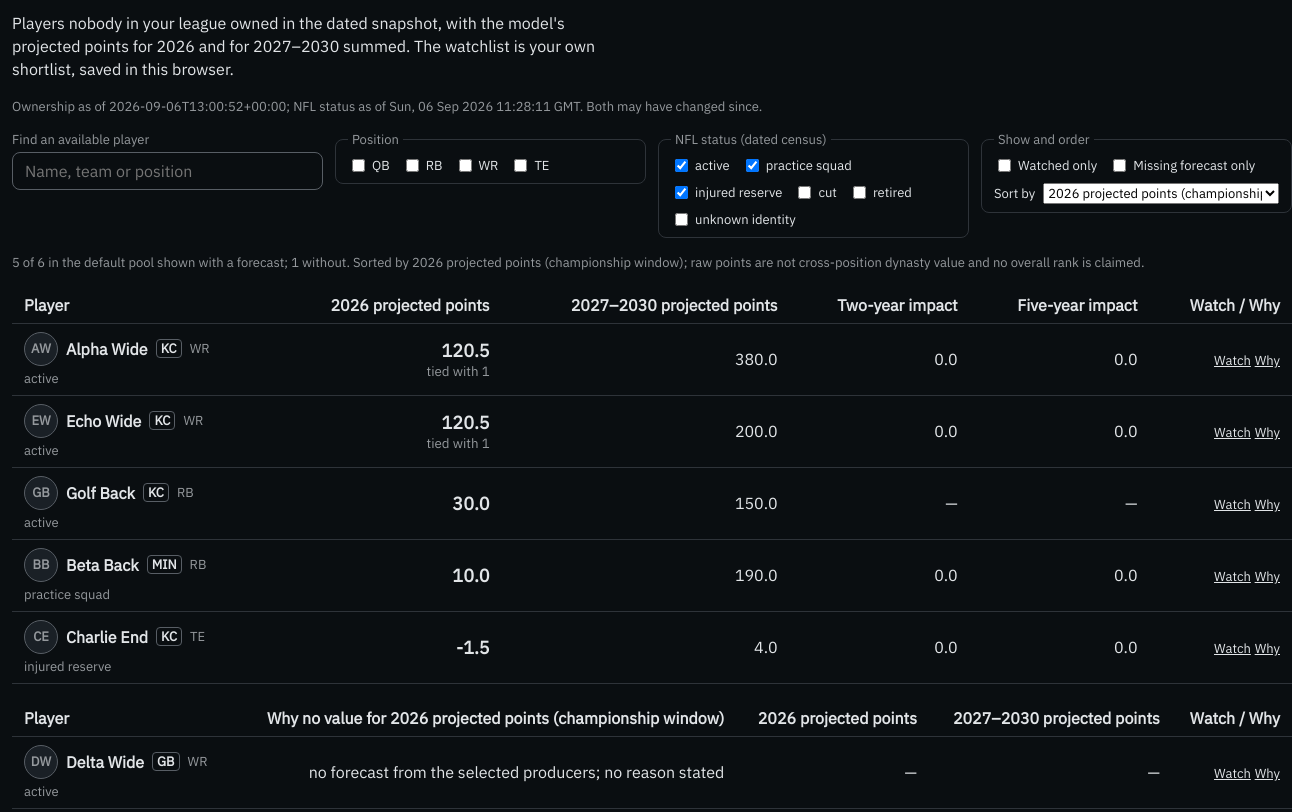
Scenario: AvailablePlayers › treats an emptied NFL-status selection as an explicit no-match, not a silent default
Expected: the element named "Available players" is shown, [12,287,1291,684]
Step 1. Click the checkbox labelled "active" → (682, 165), box [675,159,688,172]
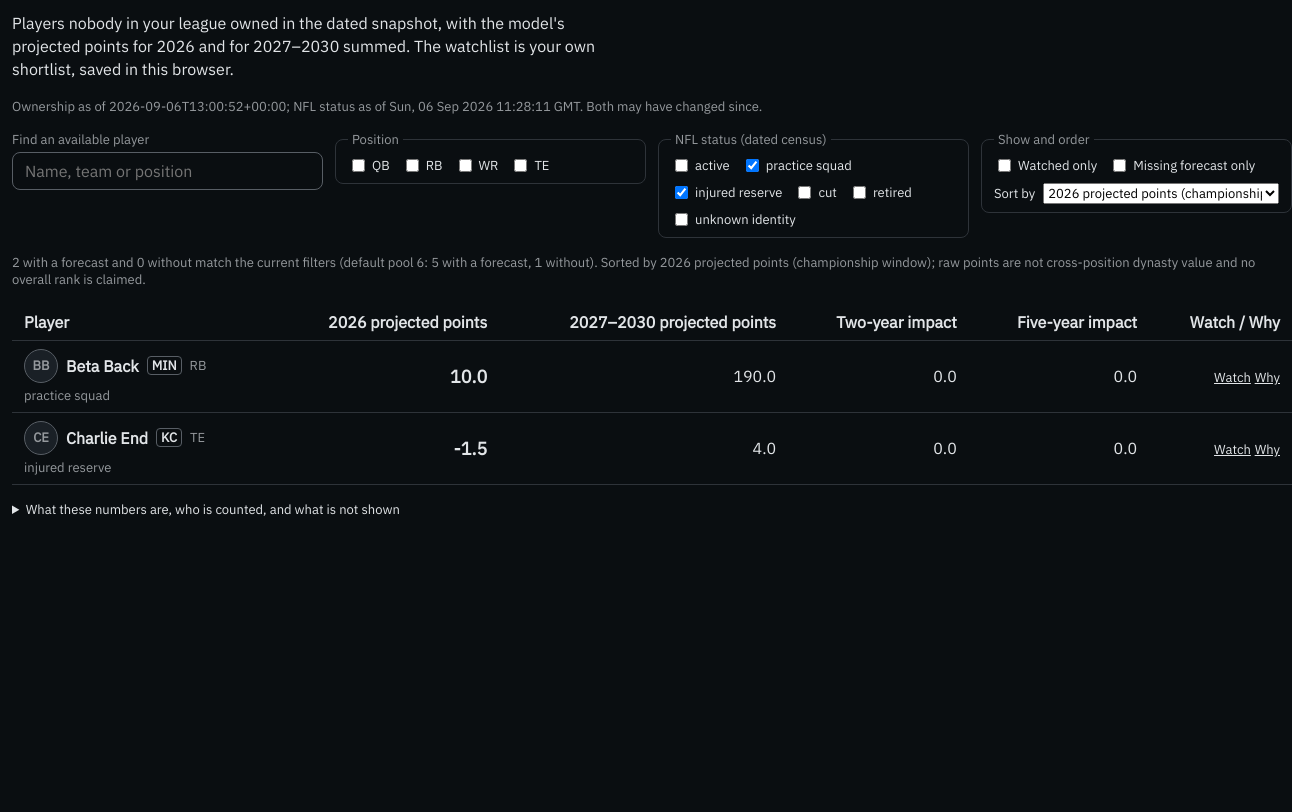
Step 2. Click the checkbox labelled "practice squad" → (752, 165), box [746,159,759,172]
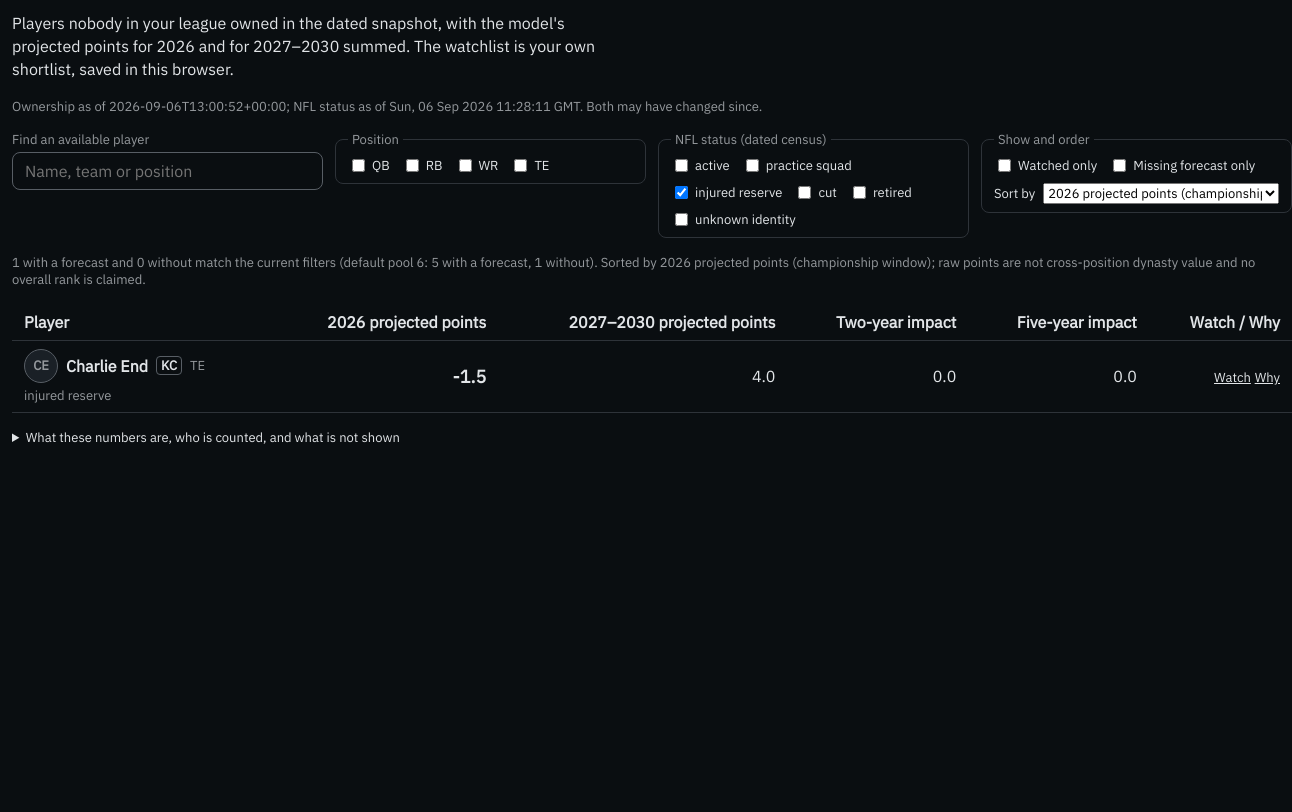
Step 3. Click the checkbox labelled "injured reserve" → (682, 192), box [675,186,688,199]
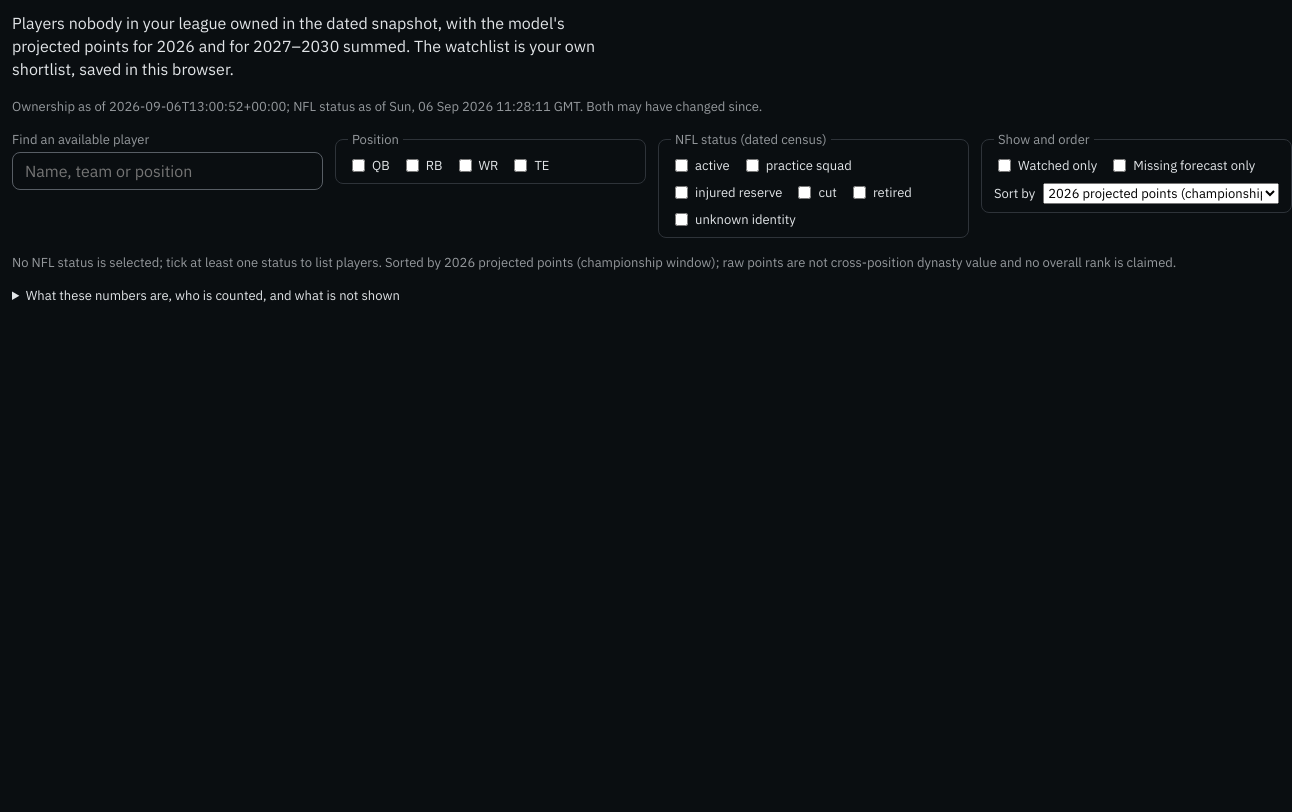
Now the text "No NFL status is selected; tick at least one status to list players" is shown, box [12,254,382,271]
